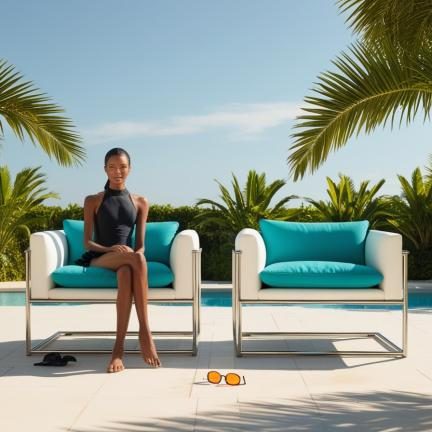empty chair: (233, 219, 408, 356)
guest on chair: (25, 148, 201, 372)
